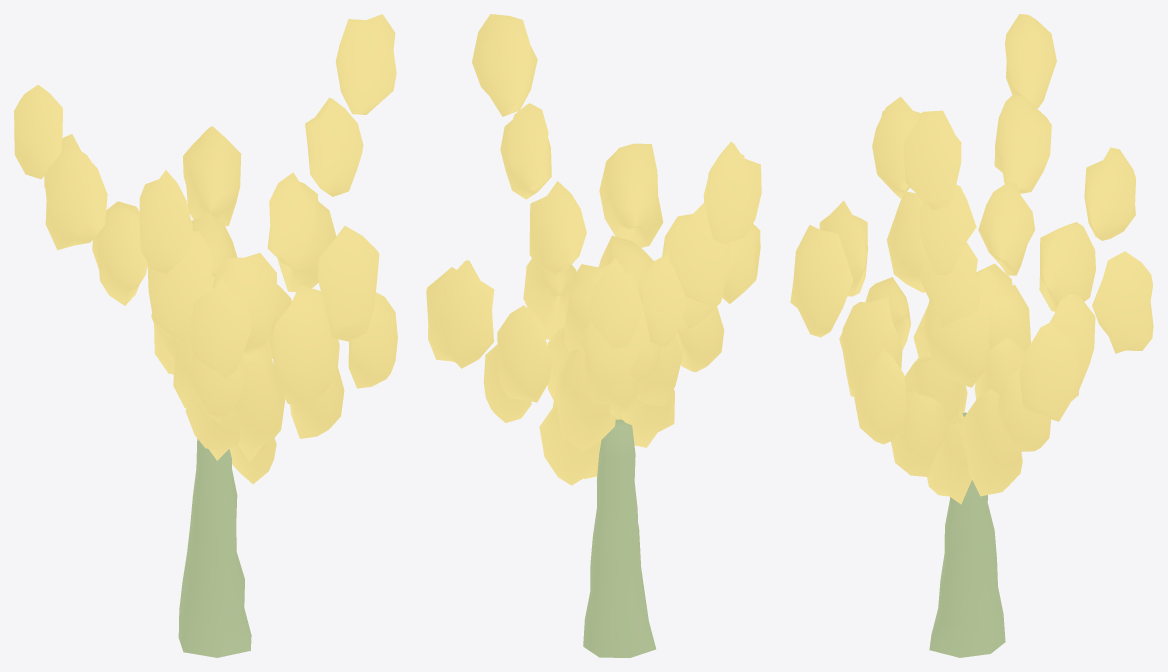
Rendered from Blender_Cholla_2.glb.
3 views of the same model, side by side, from view 1: azimuth 30°, elevation 25°; view 2: azimuth 150°, elevation 25°; view 3: azimuth 270°, elevation 25° (orthographic). The views are drawn at different scales.
Parts seen in each view (by area): view 1: Blender_Cholla_2; view 2: Blender_Cholla_2; view 3: Blender_Cholla_2.
Part boxes in pixels (x1,y1,x2,y2): Blender_Cholla_2: (14, 14, 397, 657); Blender_Cholla_2: (426, 14, 761, 657); Blender_Cholla_2: (790, 14, 1153, 657).
Size of the model in its own units: 0.7521 by 1.31 by 0.7299.
